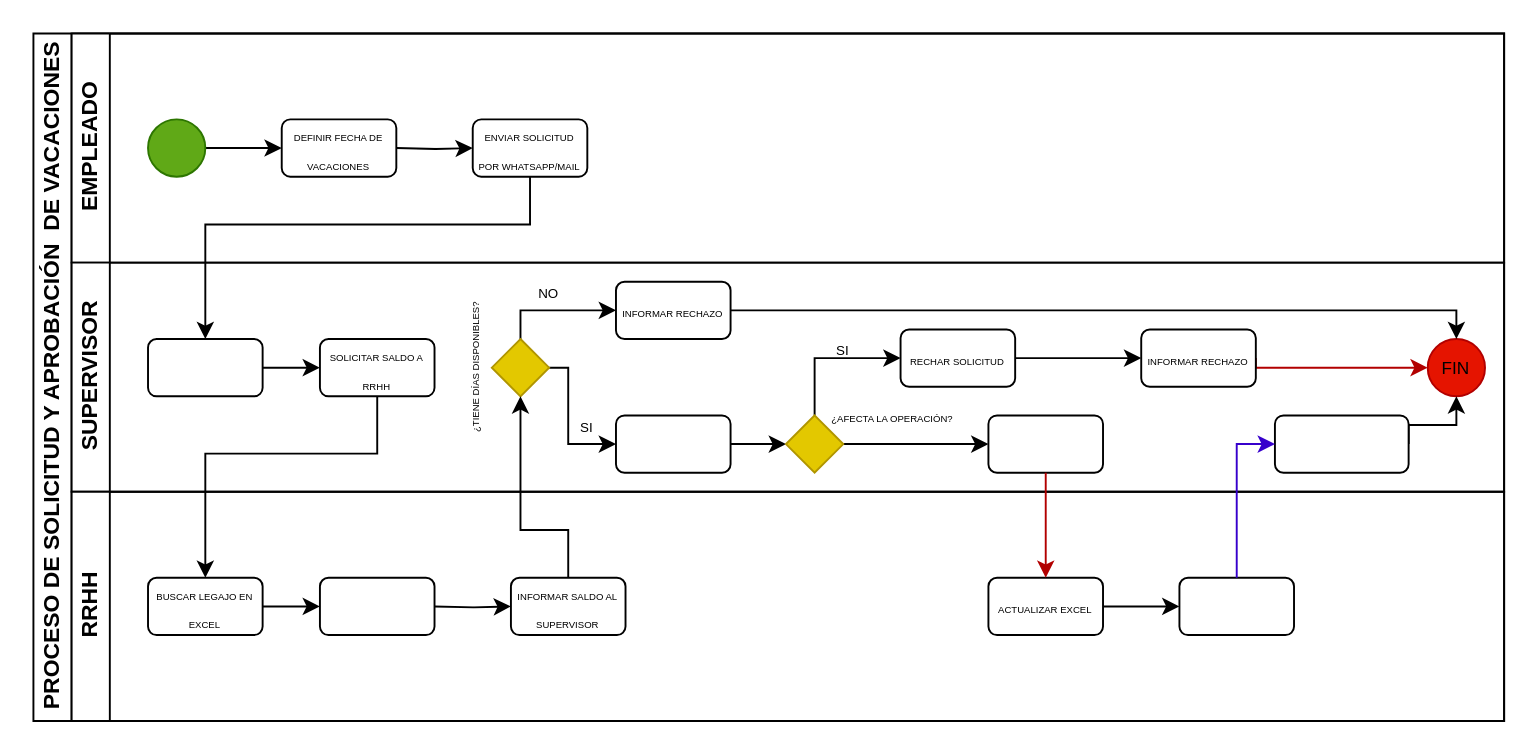
The diagram is 1538 pixels wide and 754 high, and some of its shapes have lost their labels. Each missing label, with the centre of its shape:
"ANALIZAR IMPACTO OPERATIVO" goes at pixel 672 443.
"APROBAR SOLICITUD" goes at pixel 1045 443.
"ARCHIVAR SOLICITUD" goes at pixel 1236 605.
"INFORMAR APROBACIÓN AL EMPLEADO" goes at pixel 1341 443.
"INICIO" goes at pixel 175 147.
"RECIBIR SOLICITUD" goes at pixel 204 366.
"VERIFICAR DÍAS DISPONIBLES" goes at pixel 376 605.
